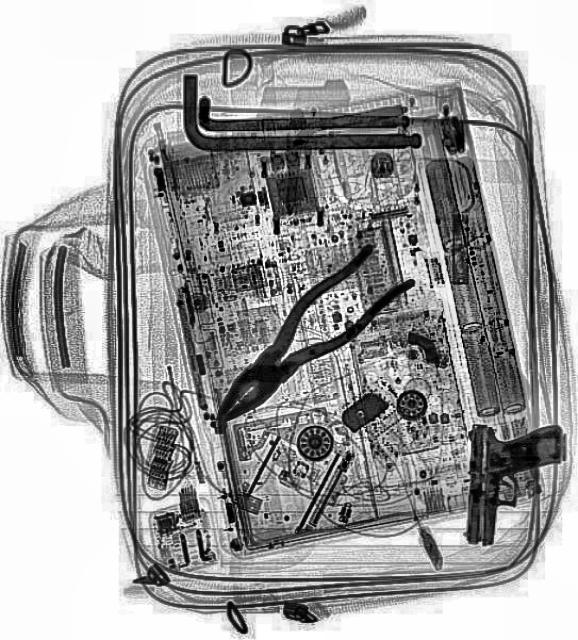Gun: (460, 417, 566, 549)
Pliers: (192, 232, 416, 444)
